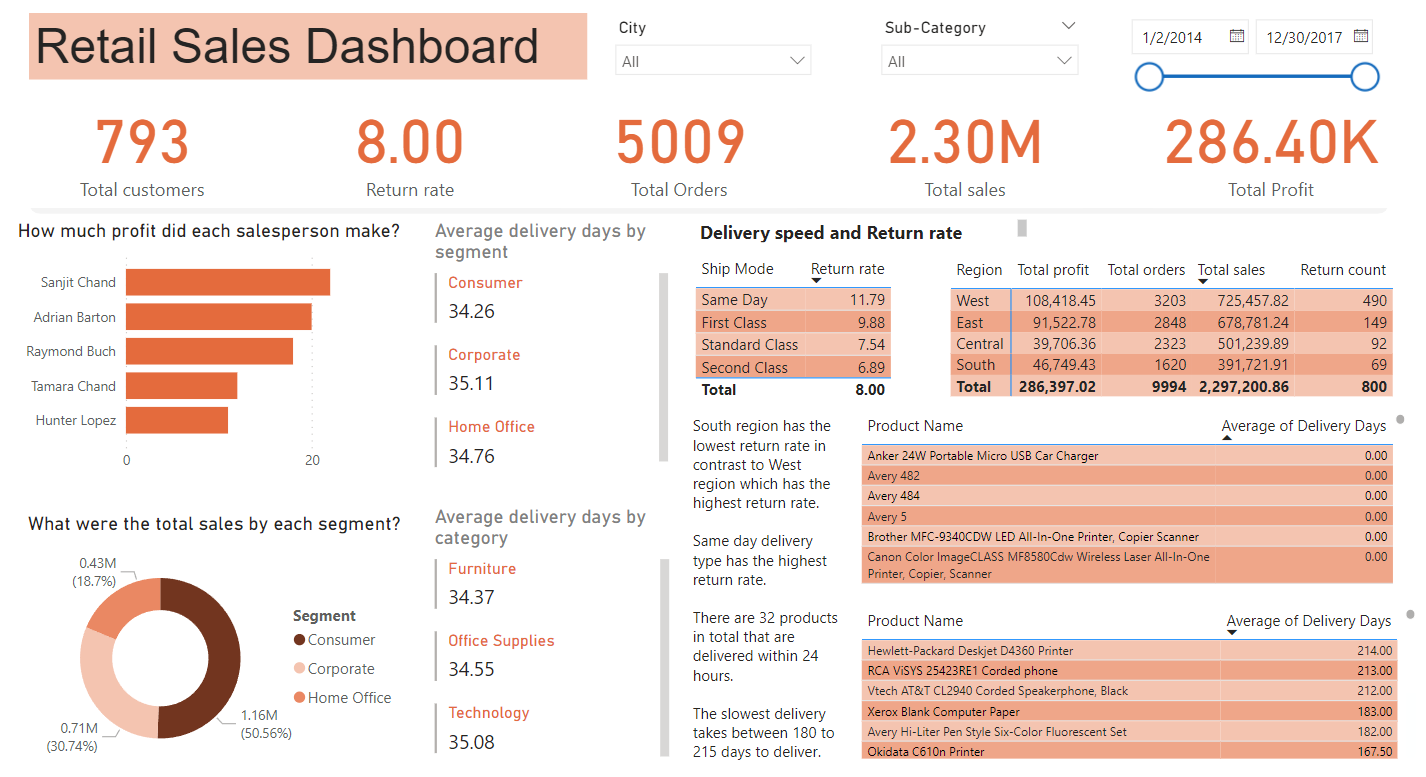

Layout of this report page (visuals, bound fields, positions):
{"tool":"powerbi","page":{"name":"Return Analysis","canvas":[1280,720],"ordinal":0},"visuals":[{"type":"shape","box":[31.9,79.8,1205.9,115.3],"z":0},{"type":"card","fields":{"Values":["All measures.Total customers"]},"box":[27.6,79.8,209.3,110],"z":1000,"group":"g1"},{"type":"pivotTable","fields":{"Rows":["Retails Order Full Dataset.Region"],"Values":["Retails Order Full Dataset.Profit","Retails Order Full Dataset.Order ID","Retails Order Full Dataset.Sales","All measures.Return count"]},"box":[844.2,228.8,425.6,144.5],"z":1000},{"type":"card","fields":{"Values":["All measures.Return rate"]},"box":[265.2,79.8,209.3,110],"z":2000,"group":"g1"},{"type":"donutChart","title":"What were the total sales by each segment?","fields":{"Category":["Retails Order Full Dataset.Segment"],"Y":["Retails Order Full Dataset.Sales"]},"box":[25.7,459.4,342.3,240.3],"z":2000},{"type":"card","fields":{"Values":["All measures.Total Orders"]},"box":[503.8,79.8,209.3,110],"z":3000,"group":"g1"},{"type":"multiRowCard","title":"Average delivery days by category","fields":{"Values":["Retails Order Full Dataset.Category","Retails Order Full Dataset.Delivery Days"]},"box":[386.6,453.3,218.1,240.3],"z":3000},{"type":"card","fields":{"Values":["All measures.Total sales"]},"box":[757.4,79.8,209.3,110],"z":4000,"group":"g1"},{"type":"multiRowCard","title":"Average delivery days by segment","fields":{"Values":["Retails Order Full Dataset.Segment","Retails Order Full Dataset.Delivery Days"]},"box":[386.6,199.7,217.2,232.3],"z":4000},{"type":"card","fields":{"Values":["All measures.Total Profit"]},"box":[1028.7,79.8,209.3,110],"z":5000,"group":"g1"},{"type":"tableEx","fields":{"Values":["Retails Order Full Dataset.Product Name","Retails Order Full Dataset.Delivery Days"]},"box":[764.3,367.3,493,161.4],"z":5000},{"type":"barChart","title":"How much profit did each salesperson make?","fields":{"Category":["Retails Order Full Dataset.Customer Name"],"Y":["Retails Order Full Dataset.Profit"]},"box":[16.8,199.7,360,232.3],"z":6000},{"type":"tableEx","fields":{"Values":["Retails Order Full Dataset.Product Name","Retails Order Full Dataset.Delivery Days"]},"box":[764.3,540.1,501.9,142.8],"z":7000},{"type":"tableEx","fields":{"Values":["Retails Order Full Dataset.Ship Mode","All measures.Return rate"]},"box":[617.2,228,196.8,144.5],"z":8000},{"type":"group","id":"g1","title":"Group 1","box":[27.6,79.8,1210.3,110],"z":9000},{"type":"textbox","box":[615.4,368.9,140.1,333.4],"z":10000},{"type":"textbox","box":[621.6,195.2,299.7,30.1],"z":11000},{"type":"textbox","box":[31.9,16.8,494.8,58.5],"z":12000},{"type":"slicer","fields":{"Values":["Retails Order Full Dataset.Order Date"]},"box":[996.8,12.6,240.8,81.2],"z":13000},{"type":"slicer","fields":{"Values":["Retails Order Full Dataset.Sub-Category"]},"box":[777.5,16.8,195.1,71.8],"z":14000},{"type":"slicer","fields":{"Values":["Retails Order Full Dataset.City"]},"box":[541.7,16.8,194.2,71.8],"z":15000}]}

Visuals, with their boxes on the page's 1280x720 design canvas (x1, y1, x2, y2). These are canvas units, not pixel positions in the 1426x777 screenshot, which may show the page scaled, cropped or inside an application window:
shape: (32,80,1238,195)
card - All measures.Total customers: (28,80,237,190)
pivotTable - Retails Order Full Dataset.Region x Retails Order Full Dataset.Profit: (844,229,1270,373)
card - All measures.Return rate: (265,80,474,190)
"What were the total sales by each segment?" donutChart: (26,459,368,700)
card - All measures.Total Orders: (504,80,713,190)
"Average delivery days by category" multiRowCard: (387,453,605,694)
card - All measures.Total sales: (757,80,967,190)
"Average delivery days by segment" multiRowCard: (387,200,604,432)
card - All measures.Total Profit: (1029,80,1238,190)
tableEx - Retails Order Full Dataset.Product Name x Retails Order Full Dataset.Delivery Days: (764,367,1257,529)
"How much profit did each salesperson make?" barChart: (17,200,377,432)
tableEx - Retails Order Full Dataset.Product Name x Retails Order Full Dataset.Delivery Days: (764,540,1266,683)
tableEx - Retails Order Full Dataset.Ship Mode x All measures.Return rate: (617,228,814,372)
"Group 1" group: (28,80,1238,190)
textbox: (615,369,756,702)
textbox: (622,195,921,225)
textbox: (32,17,527,75)
slicer - Retails Order Full Dataset.Order Date: (997,13,1238,94)
slicer - Retails Order Full Dataset.Sub-Category: (778,17,973,89)
slicer - Retails Order Full Dataset.City: (542,17,736,89)
